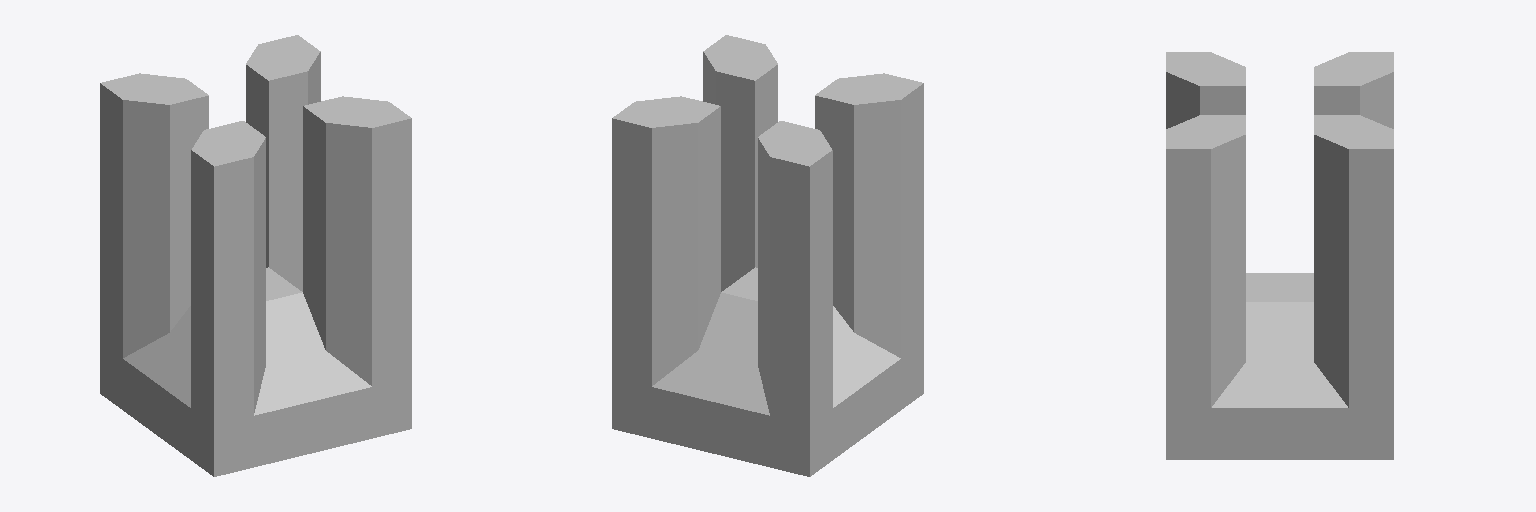
File: FORTIFICATION.obj
3 renders of one model, left to right at view 1: azimuth 30°, elevation 25°; view 2: azimuth 150°, elevation 25°; view 3: azimuth 270°, elevation 25°, orthographic.
Parts seen in each view (by area): view 1: FORTIFICATION; view 2: FORTIFICATION; view 3: FORTIFICATION.
Part boxes in pixels (x1,y1,x2,y2): FORTIFICATION: (100, 35, 411, 476); FORTIFICATION: (612, 35, 923, 476); FORTIFICATION: (1166, 52, 1393, 459).
Bounding box in the file's own units: 2 × 3 × 2.